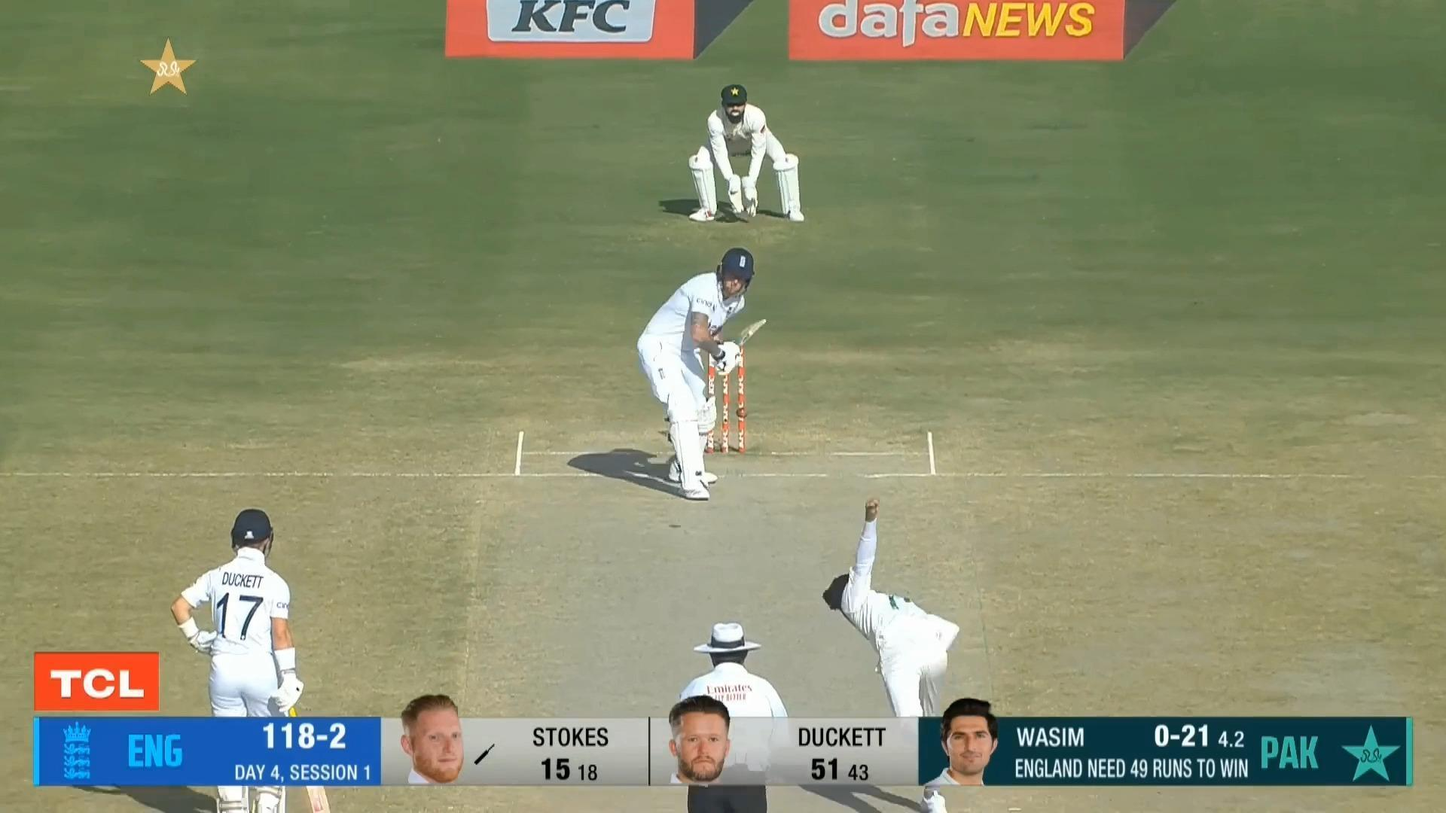BM 1: (636, 246, 771, 503)
BO: (820, 494, 962, 813)
